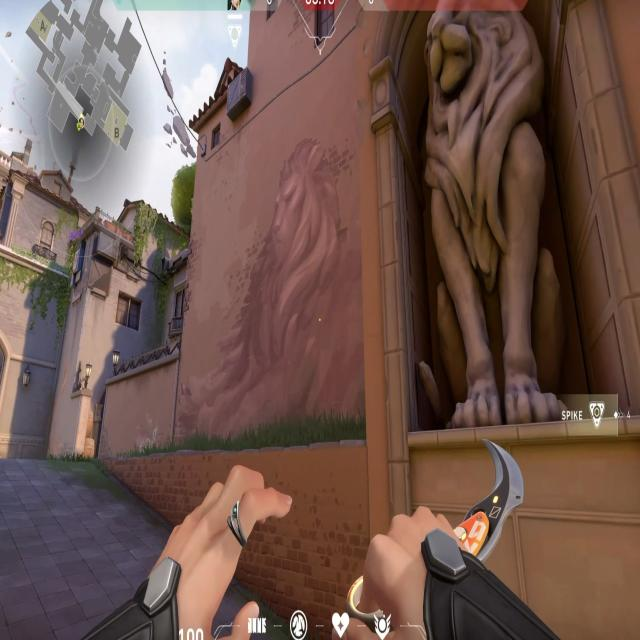Lion_Corner: (392, 3, 604, 446)
